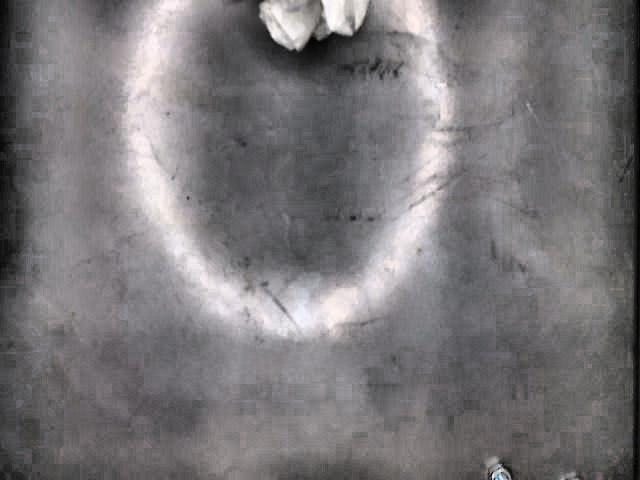Paper: (257, 0, 372, 51)
